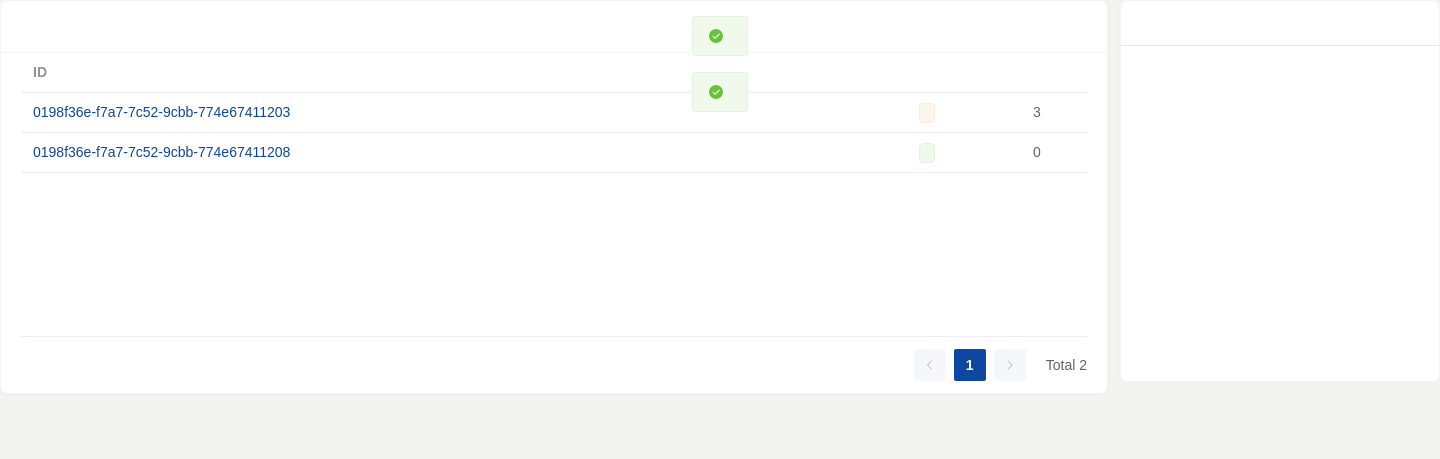
it: Vue 工作流恢复任务页 › 409 冲突时展示问题详情且不吞掉修订号
The image size is (1440, 459).
Click the button with test id "workflow-recovery-tasks-load" that starts with "0198f36e-f7a7-7c52-9cbb-774e67411203".
click(162, 112)  # box [33,101,290,124]
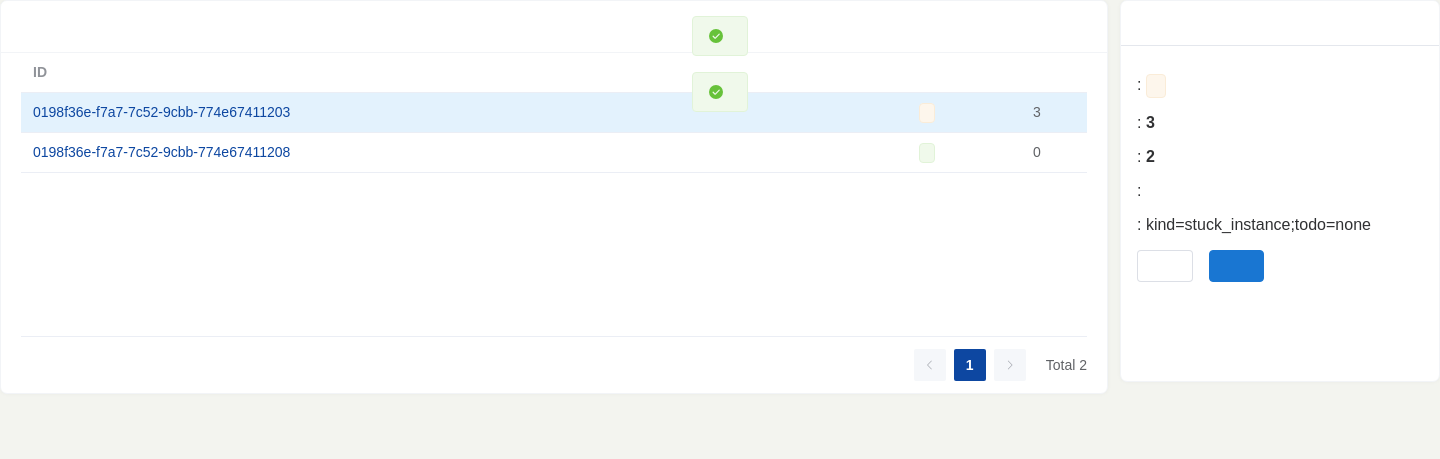
Type "卡住实例" into the field with test id "workflow-recovery-tasks-retry-reason".
click(1165, 266); type("卡住实例")  # box [1148,251,1182,281]
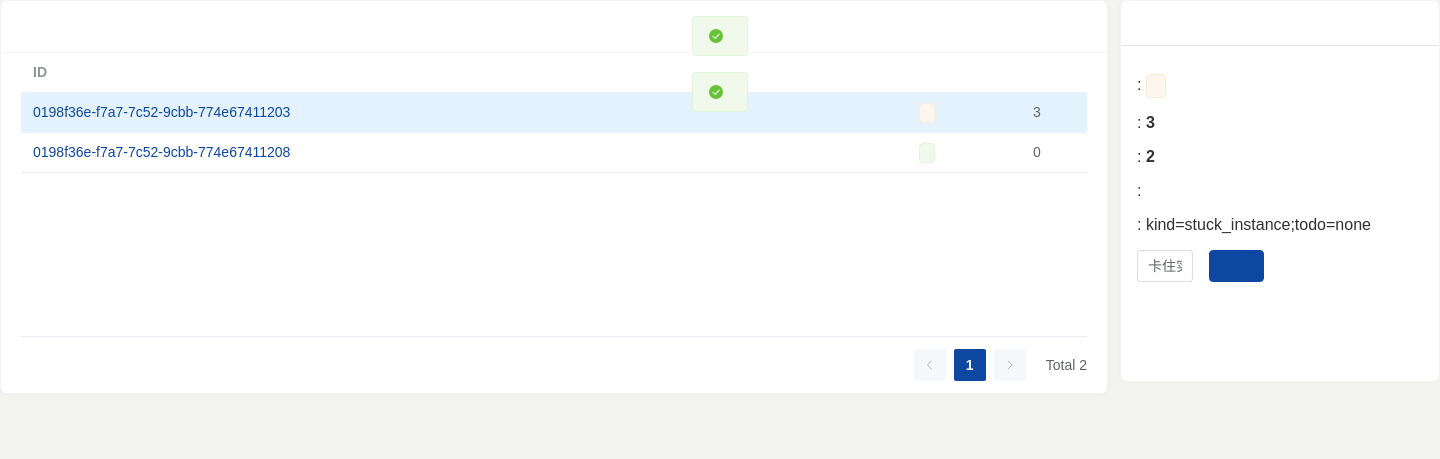
Click the button with test id "workflow-recovery-tasks-retry".
click(1236, 266)  # box [1208,250,1264,282]
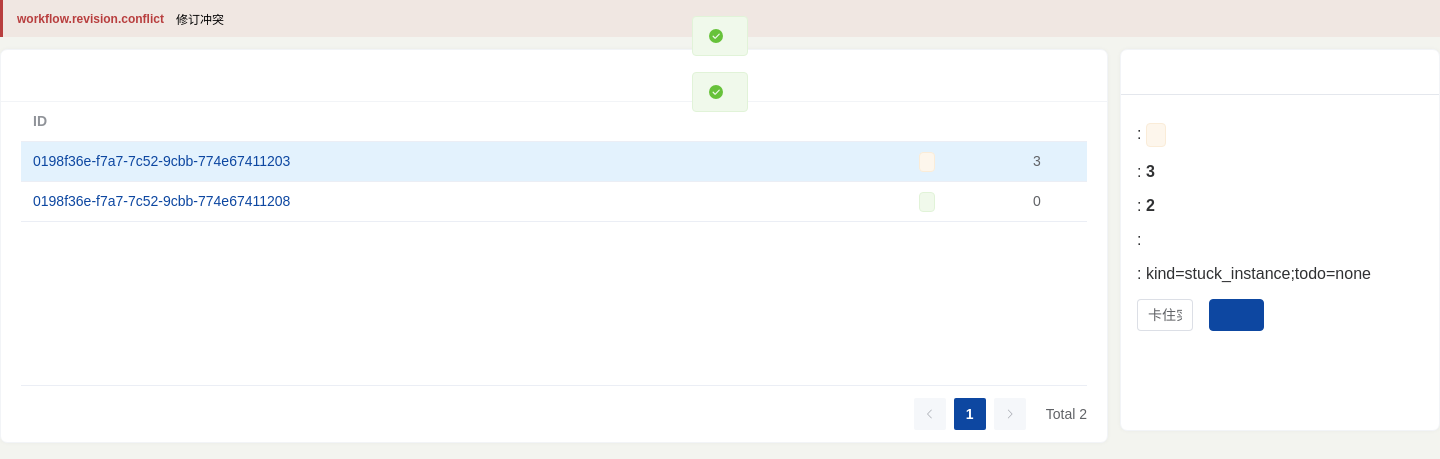
Result: the message "workflow.revision.conflict 修订冲突" is shown at [0,0,1439,37]
